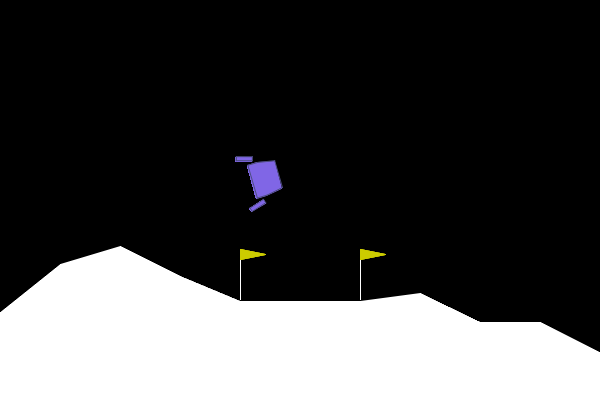lander: (233, 145, 288, 214)
